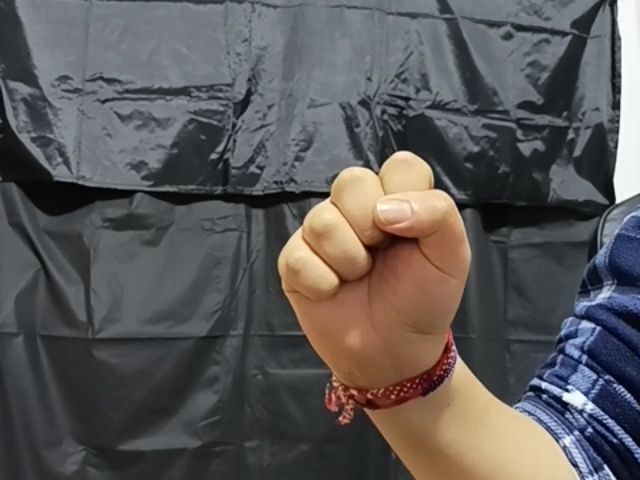S: (281, 146, 482, 366)
